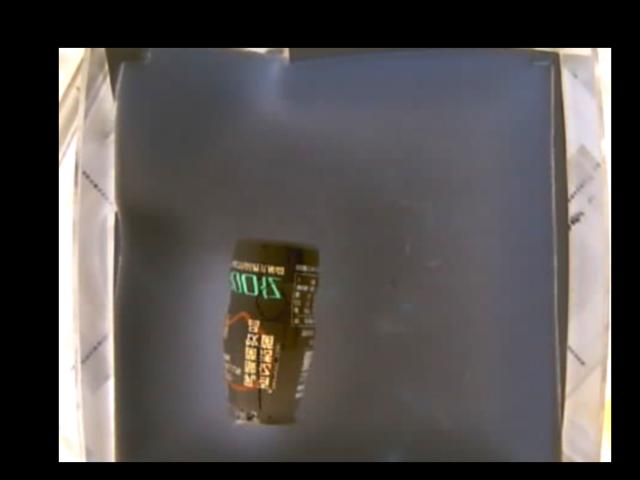Bottle: (226, 237, 321, 425)
